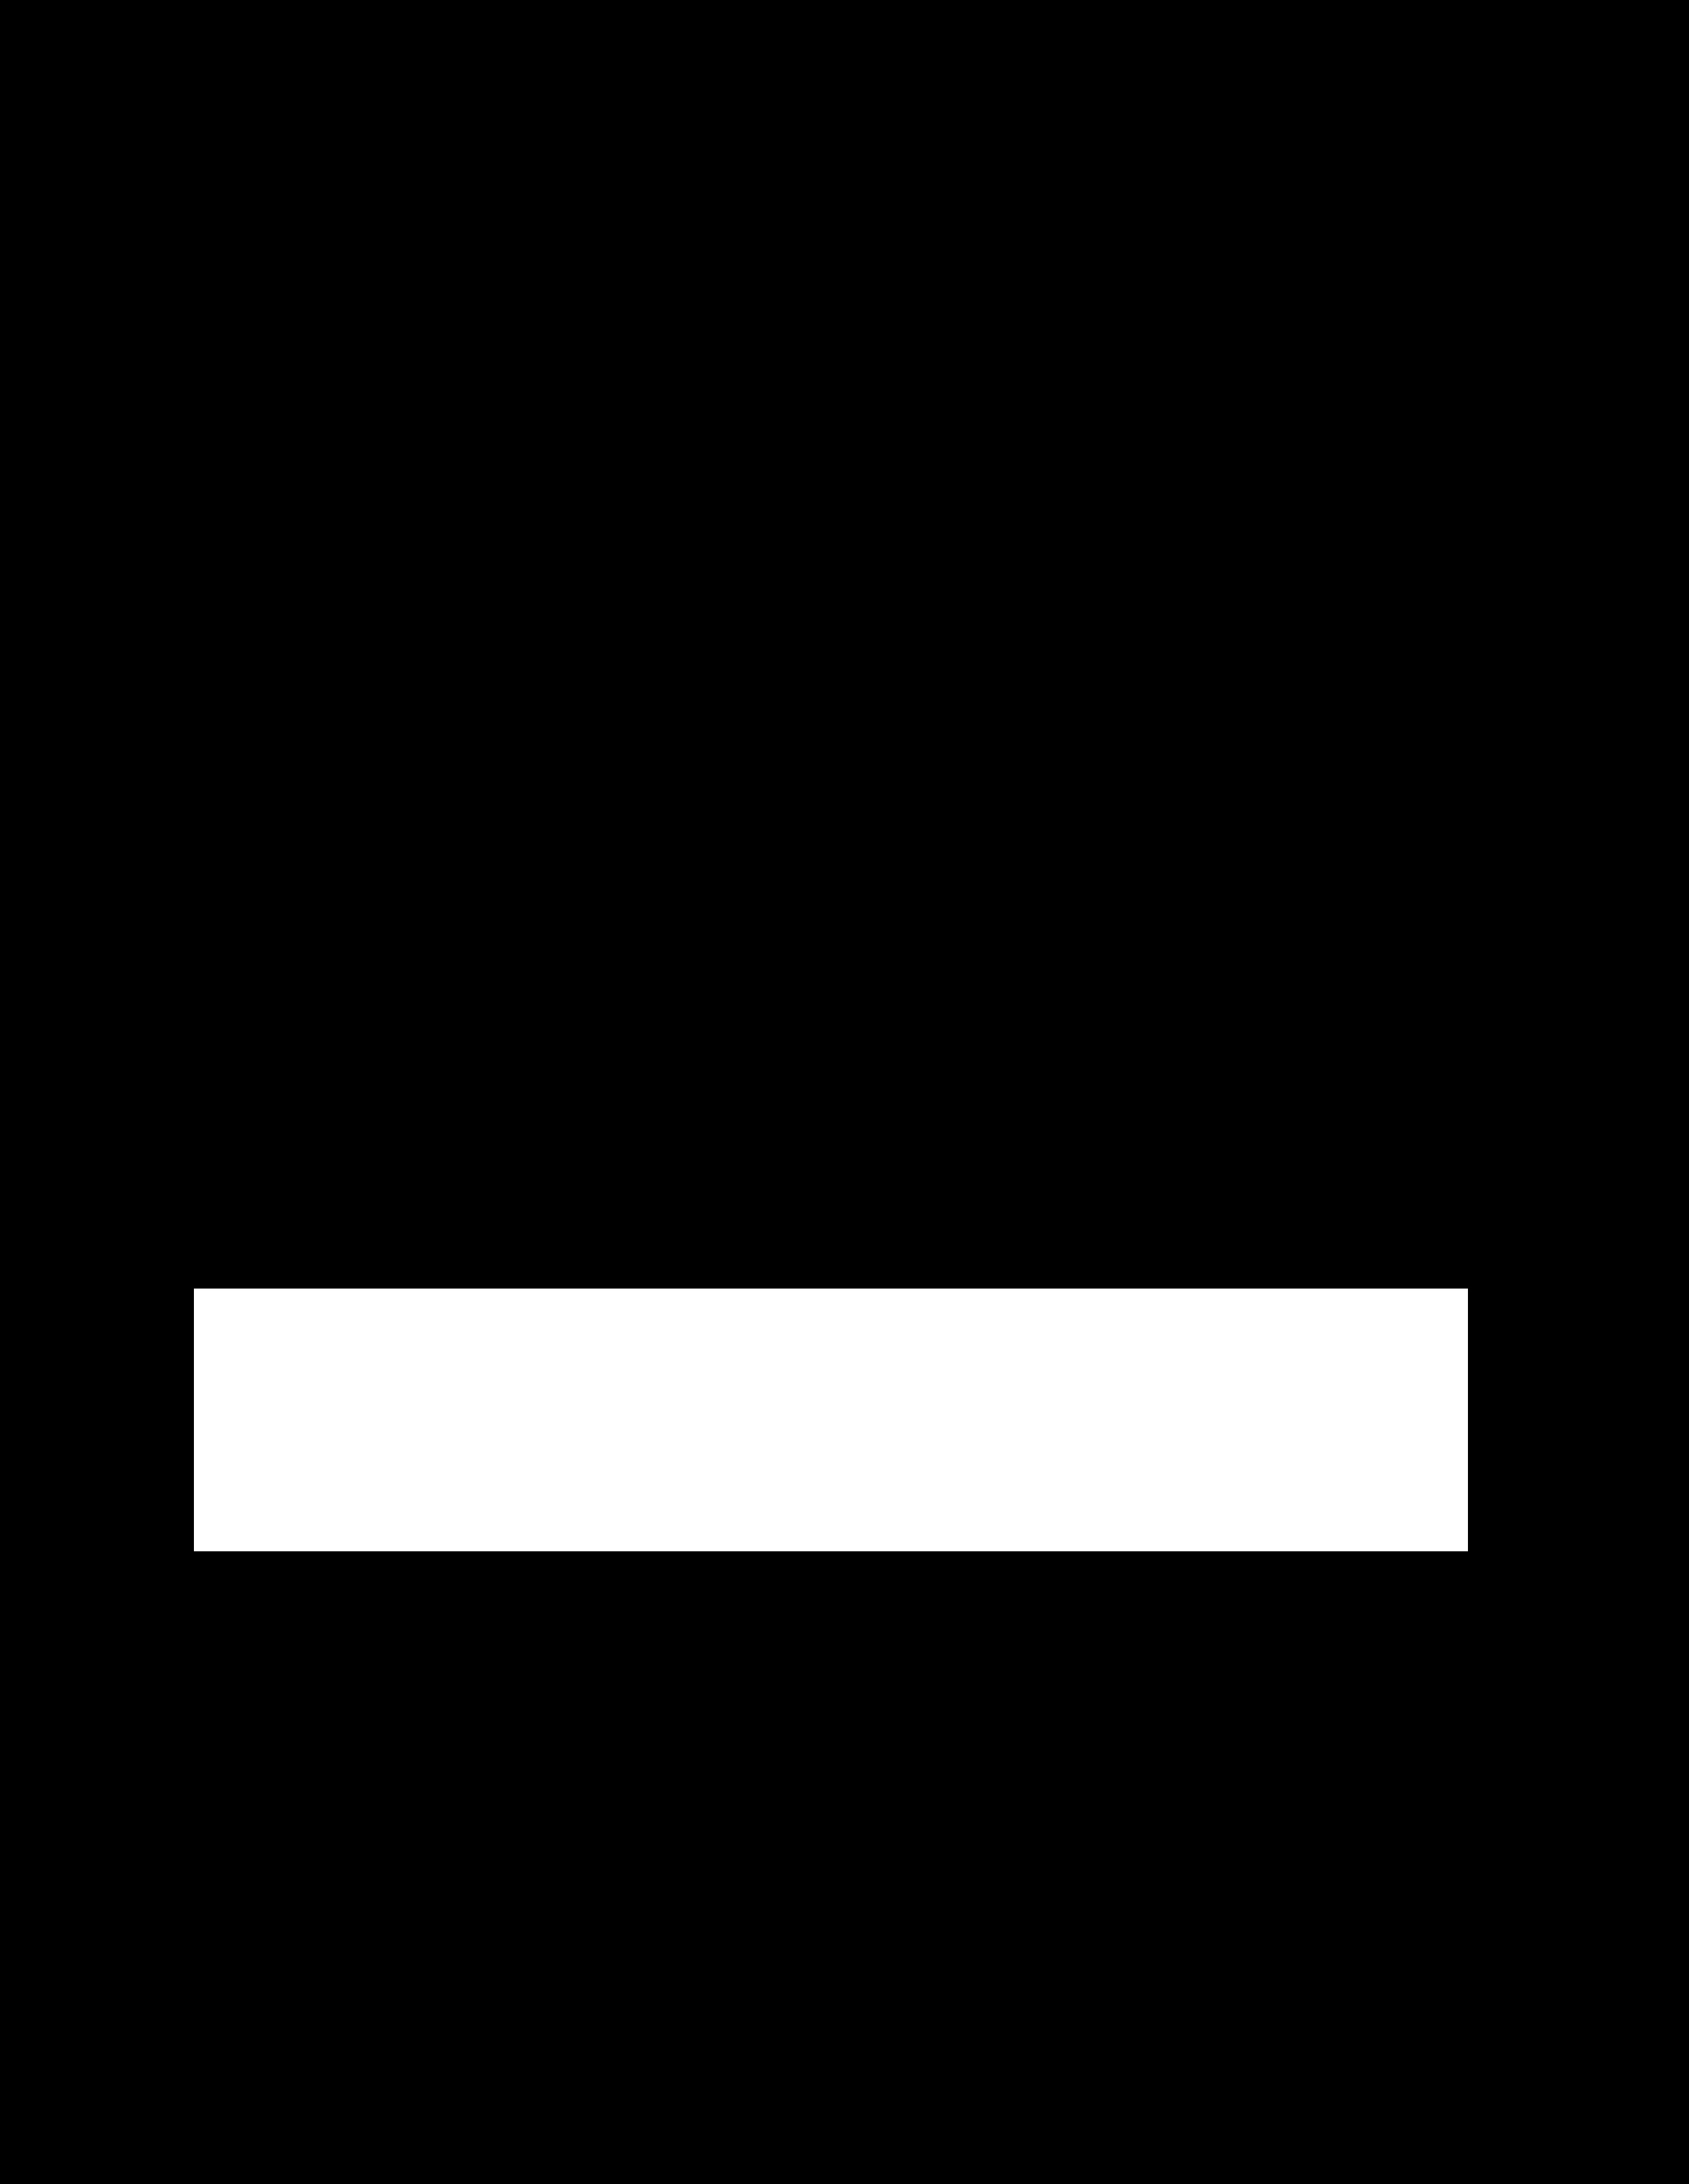table: (193, 1289, 1467, 1551)
